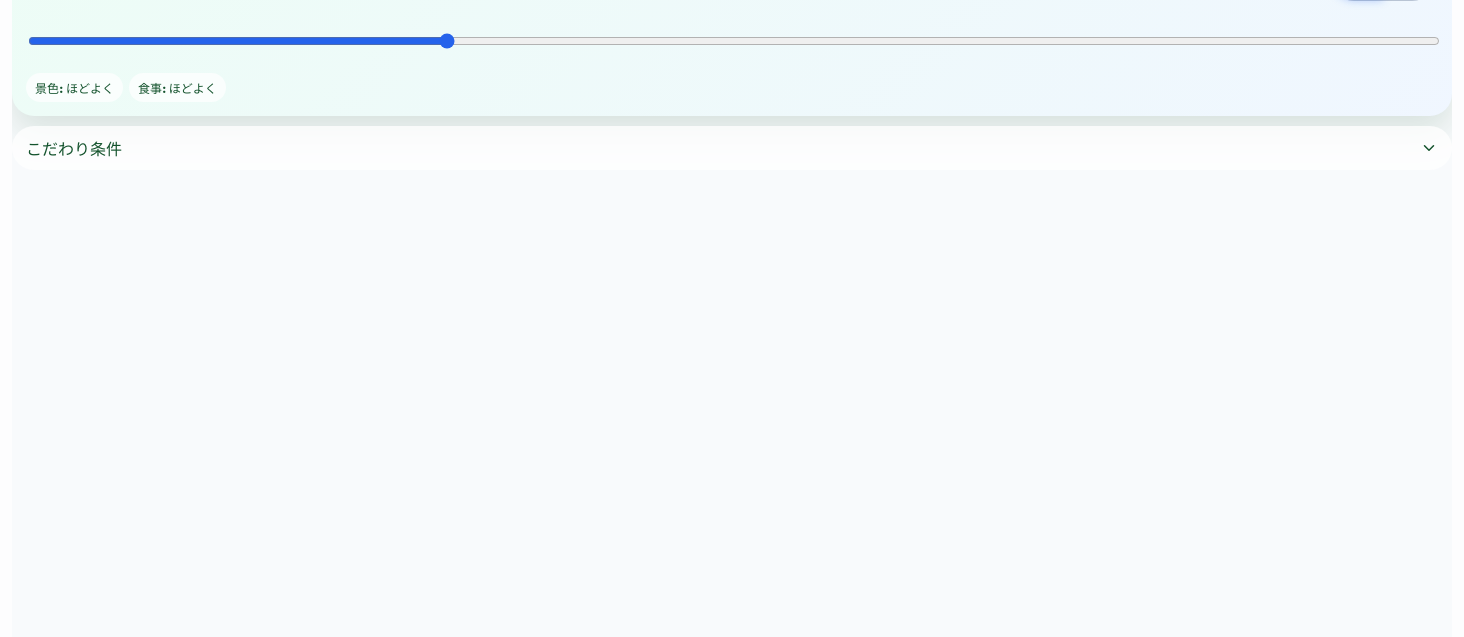
Test: InputPanel proposal provider UI › shows provider controls when the local backend exists
Click the button "こだわり条件".
click(74, 149)  # box [12,126,1452,170]
(page scrolled)
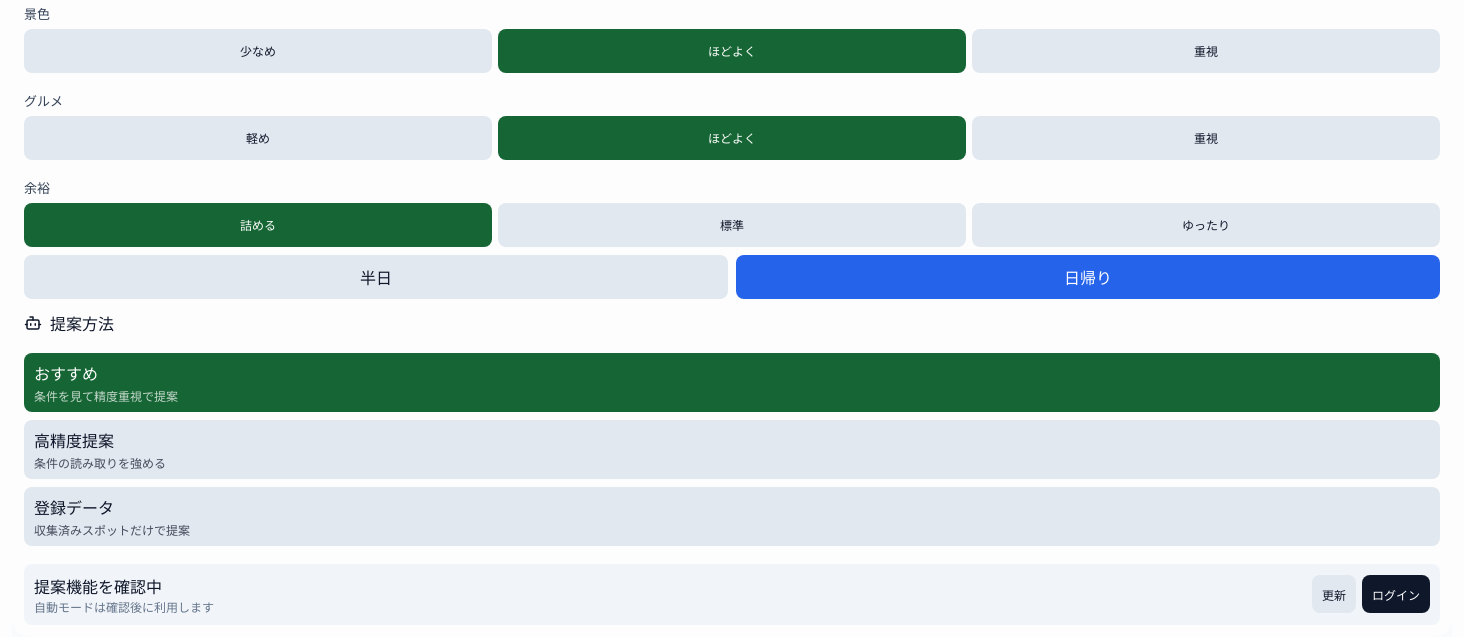
Expected: the button "ログイン" is shown, [1362,575,1430,613]
Expected: the text "高精度提案" is shown, [34,428,114,452]
